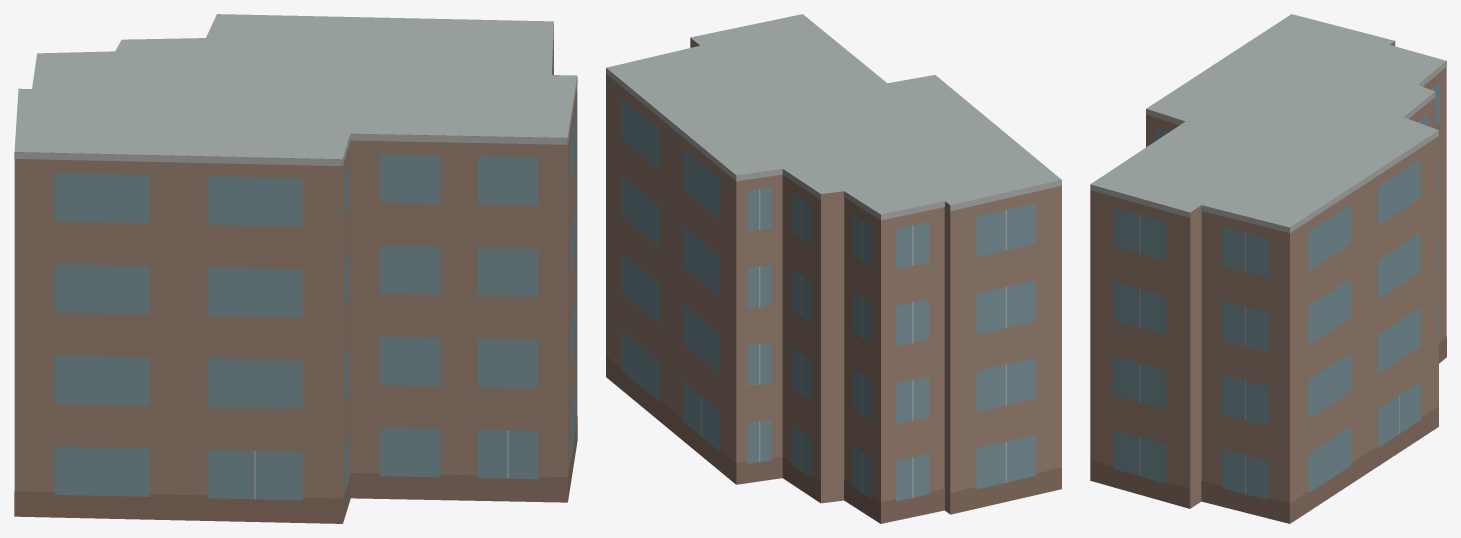
Rendered from survey-upis-32457783.glb.
3 renders of one model, left to right at view 1: azimuth 30°, elevation 25°; view 2: azimuth 150°, elevation 25°; view 3: azimuth 270°, elevation 25°, orthographic. The views are drawn at different scales.
Parts seen in each view (by area): view 1: survey-upis-32457783.tmp; view 2: survey-upis-32457783.tmp; view 3: survey-upis-32457783.tmp.
Boxes of the visible parts, <box> form: survey-upis-32457783.tmp: <box>14,14,577,523</box>; survey-upis-32457783.tmp: <box>606,14,1061,523</box>; survey-upis-32457783.tmp: <box>1090,14,1446,523</box>.
Bounding box in the file's own units: 19.79 × 12.8 × 13.96.
